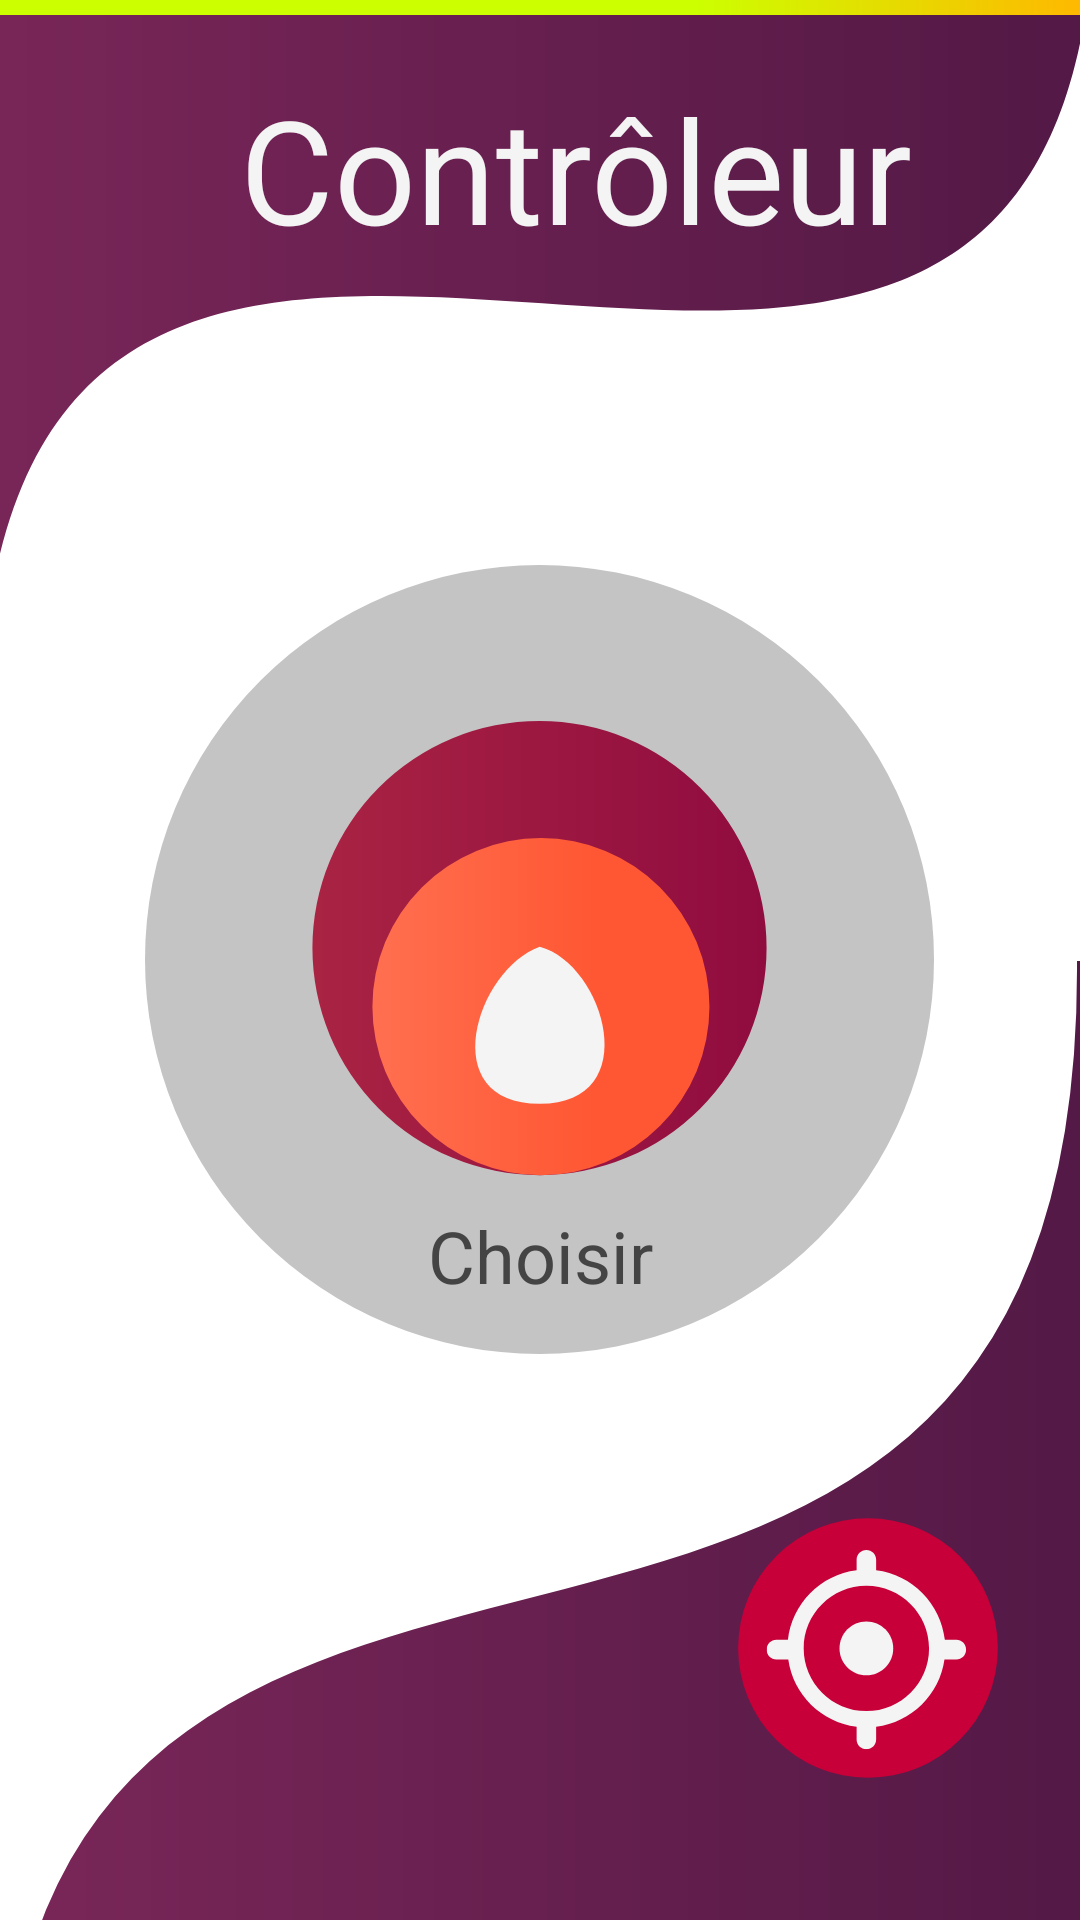

Icon bounding boxes for this 1080*1920 phone screenshot, format (x1, y1, x2, y2):
Calibration button: (738, 1518, 998, 1778)
